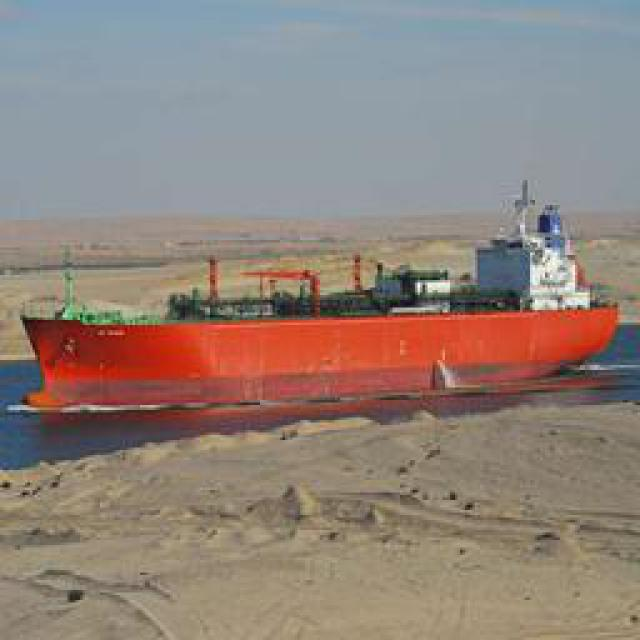Ship: (10, 236, 633, 421)
